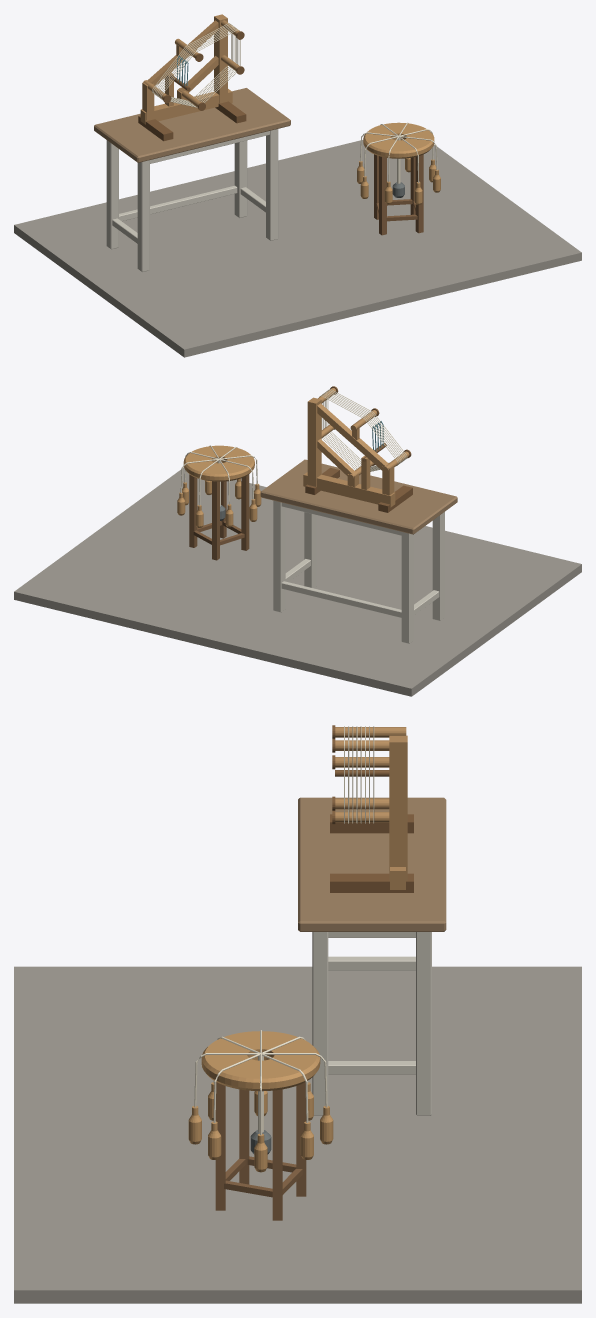
The picture shows the model from 3 angles, top to bottom: view 1: azimuth 30°, elevation 25°; view 2: azimuth 150°, elevation 25°; view 3: azimuth 270°, elevation 25°; orthographic projection. The views are drawn at different scales.
Parts seen in each view (by area): view 1: SCENE_ONLY__DisplayFloor, table__Complete work surface, braid__WholeOpenCentreBraidingTable, table__Worktable leg, table__Worktable leg.002, table__Worktable leg.001, band__WholeRearUpright, band__WholeLowLongitudinalSideRail, table__Worktable leg.003, table__Rear lower brace, band__WholeInclinedSideArm, braid__WholeGroundFootLeg_2 (+2 smaller); view 2: SCENE_ONLY__DisplayFloor, table__Complete work surface, braid__WholeOpenCentreBraidingTable, table__Worktable leg.001, table__Worktable leg.003, table__Worktable leg, band__WholeLowLongitudinalSideRail, band__WholeRearUpright, table__Rear lower brace, table__Worktable leg.002, band__WholeInclinedSideArm, braid__WholeGroundFootLeg_2 (+4 smaller); view 3: SCENE_ONLY__DisplayFloor, table__Complete work surface, braid__WholeOpenCentreBraidingTable, table__Worktable leg.003, table__Worktable leg.002, band__WholeRearUpright, braid__WholeGroundFootLeg_0, band__WholeGroundFoot_1, table__Side lower stretcher, table__Side lower stretcher.001, braid__WholeGroundFootLeg_3, braid__WholeGroundFootLeg_1 (+2 smaller).
Boxes of the visible parts, left/top/right/bottom form: SCENE_ONLY__DisplayFloor: left=14, top=140, right=581, bottom=357; table__Complete work surface: left=94, top=88, right=290, bottom=162; braid__WholeOpenCentreBraidingTable: left=363, top=122, right=434, bottom=158; table__Worktable leg: left=137, top=160, right=149, bottom=271; table__Worktable leg.002: left=266, top=129, right=278, bottom=240; table__Worktable leg.001: left=106, top=140, right=118, bottom=249; band__WholeRearUpright: left=214, top=14, right=227, bottom=103; band__WholeLowLongitudinalSideRail: left=140, top=89, right=232, bottom=124; table__Worktable leg.003: left=234, top=140, right=247, bottom=217; table__Rear lower brace: left=119, top=185, right=237, bottom=221; band__WholeInclinedSideArm: left=147, top=20, right=218, bottom=85; braid__WholeGroundFootLeg_2: left=379, top=156, right=386, bottom=235; SCENE_ONLY__DisplayFloor: left=14, top=467, right=581, bottom=696; table__Complete work surface: left=260, top=459, right=457, bottom=534; braid__WholeOpenCentreBraidingTable: left=183, top=445, right=254, bottom=481; table__Worktable leg.001: left=401, top=532, right=413, bottom=643; table__Worktable leg.003: left=273, top=500, right=285, bottom=612; table__Worktable leg: left=432, top=512, right=444, bottom=620; band__WholeLowLongitudinalSideRail: left=303, top=472, right=395, bottom=507; band__WholeRearUpright: left=307, top=397, right=321, bottom=486; table__Rear lower brace: left=281, top=581, right=401, bottom=617; table__Worktable leg.002: left=304, top=512, right=316, bottom=588; band__WholeInclinedSideArm: left=317, top=403, right=388, bottom=470; braid__WholeGroundFootLeg_2: left=241, top=474, right=249, bottom=550; SCENE_ONLY__DisplayFloor: left=14, top=966, right=581, bottom=1303; table__Complete work surface: left=298, top=797, right=446, bottom=931; braid__WholeOpenCentreBraidingTable: left=201, top=1031, right=320, bottom=1091; table__Worktable leg.003: left=416, top=932, right=431, bottom=1115; table__Worktable leg.002: left=312, top=932, right=328, bottom=1115; band__WholeRearUpright: left=389, top=735, right=407, bottom=880; braid__WholeGroundFootLeg_0: left=272, top=1089, right=282, bottom=1220; band__WholeGroundFoot_1: left=330, top=873, right=413, bottom=892; table__Side lower stretcher: left=328, top=956, right=415, bottom=970; table__Side lower stretcher.001: left=328, top=1061, right=415, bottom=1074; braid__WholeGroundFootLeg_3: left=215, top=1082, right=225, bottom=1210; braid__WholeGroundFootLeg_1: left=296, top=1082, right=306, bottom=1196.
Size of the model in its own units: 3.1 by 1.63 by 2.3.
